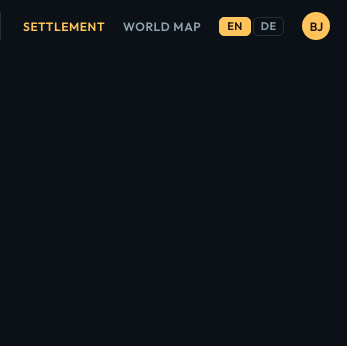
HudNav secondary entries in the avatar menu › logged in: only Settlement and World map stay inline, the rest are rows of the account menu
The width and height of the screenshot is (347, 346).
Click the button with test id "account-menu-trigger" at (316, 26), box [302,12,330,40]
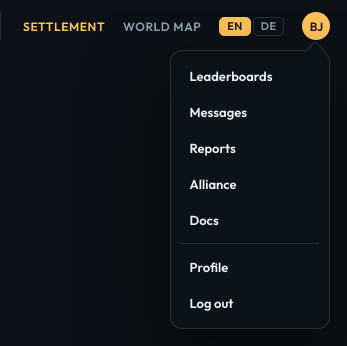
Now the menu item with test id "menu-entry-leaderboards" is shown, box [180,59,322,93]
Now the menu item with test id "menu-entry-reports" is shown, box [180,131,322,165]
Now the menu item with test id "menu-entry-guild" is shown, box [180,167,322,201]
